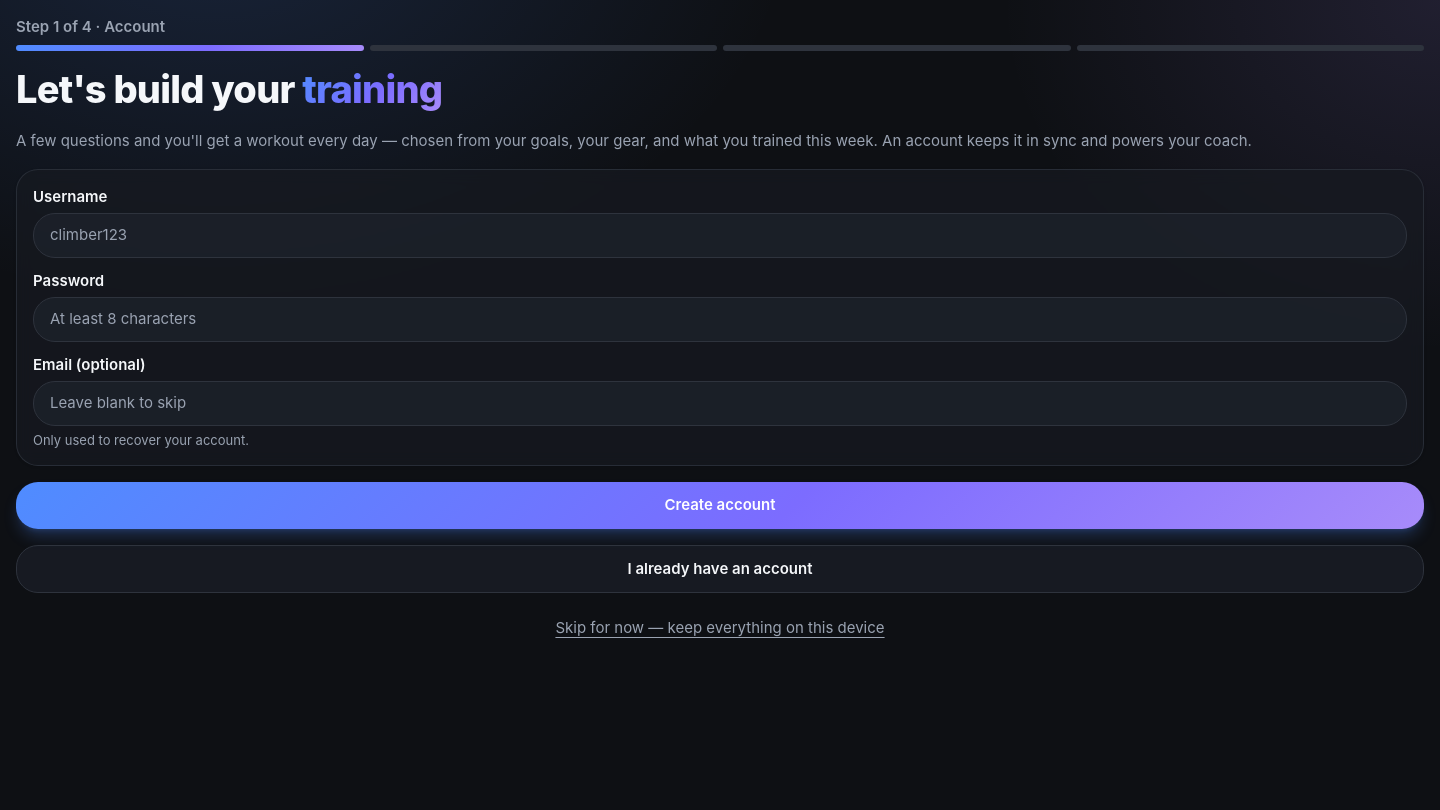
Scenario: Welcome › still asks About you when the account is brand new
Click the button "I already have an account" at (720,569), box [16,545,1424,593]
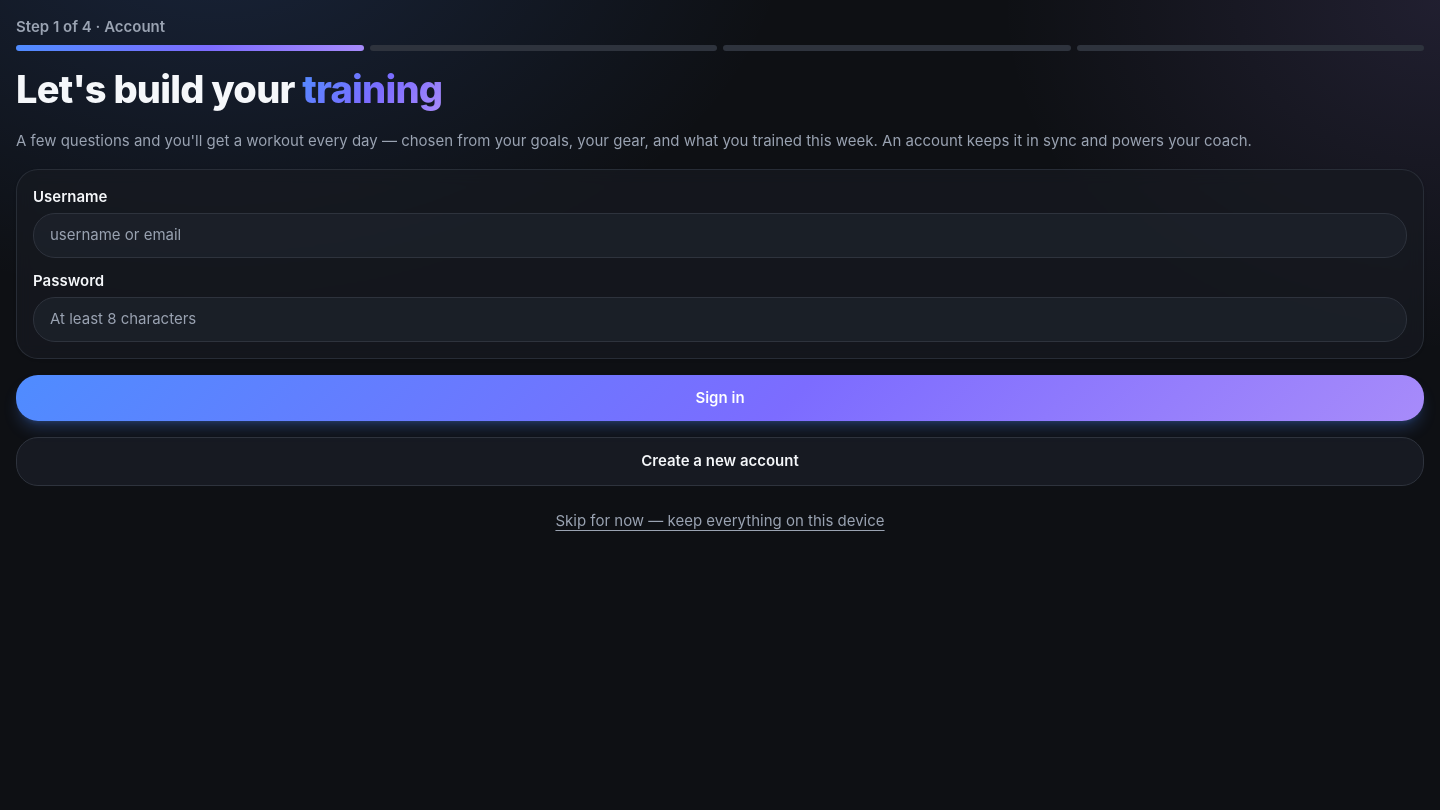
Type "new" into the field with placeholder "username or email" at (720,236), box [33,213,1407,258]
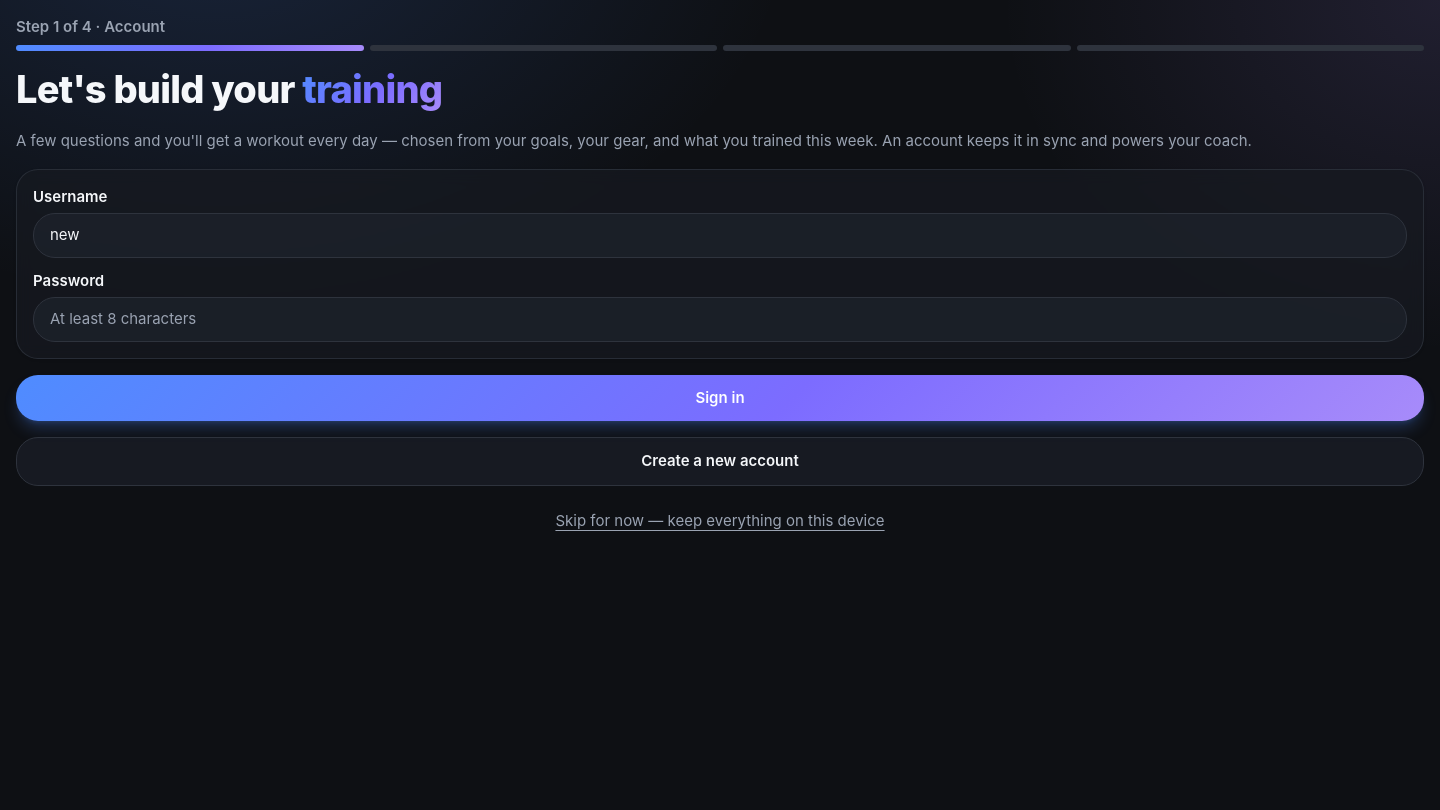
Type "password1" into the password field with placeholder "At least 8 characters" at (720,320), box [33,297,1407,342]
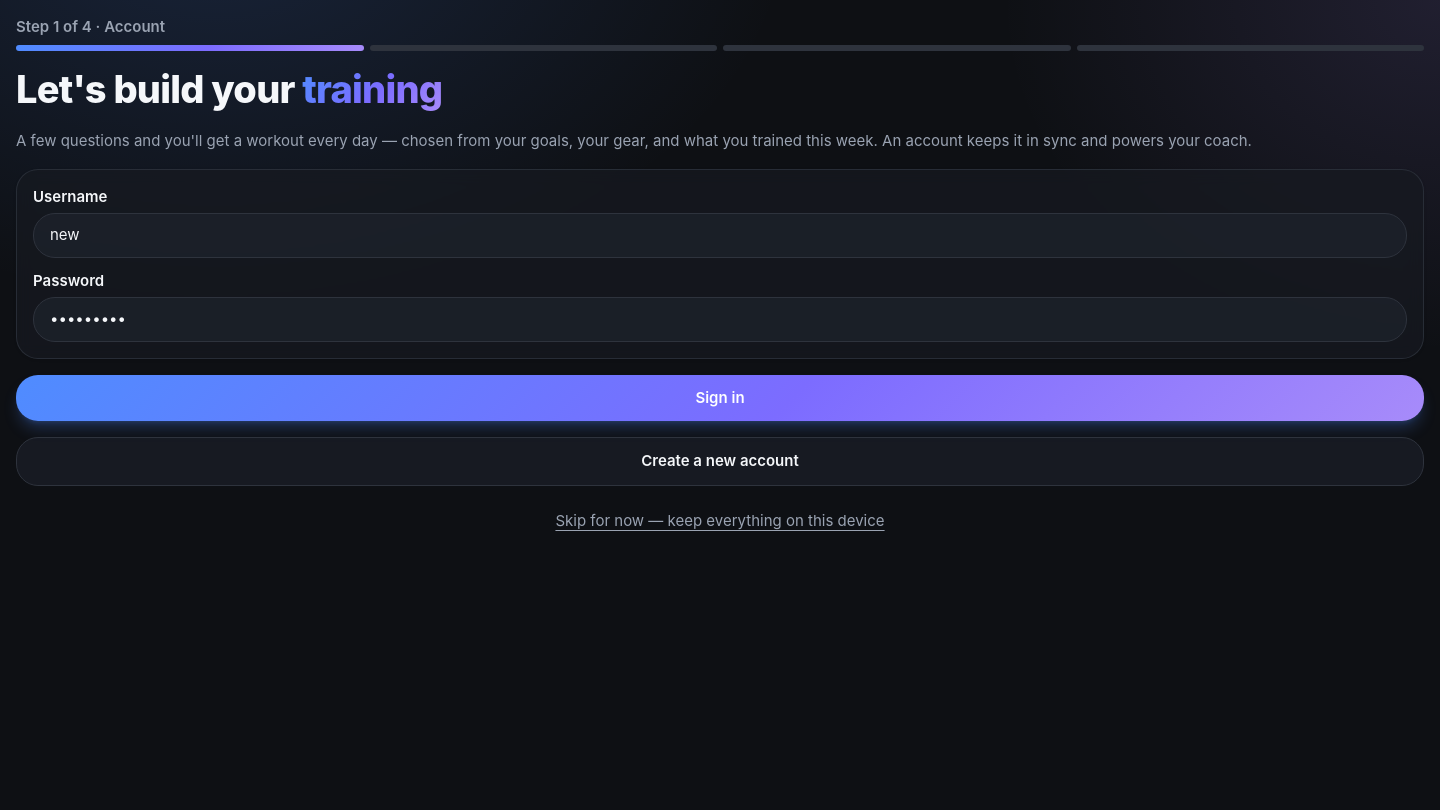
Click the button "Sign in" at (720,398), box [16,375,1424,421]
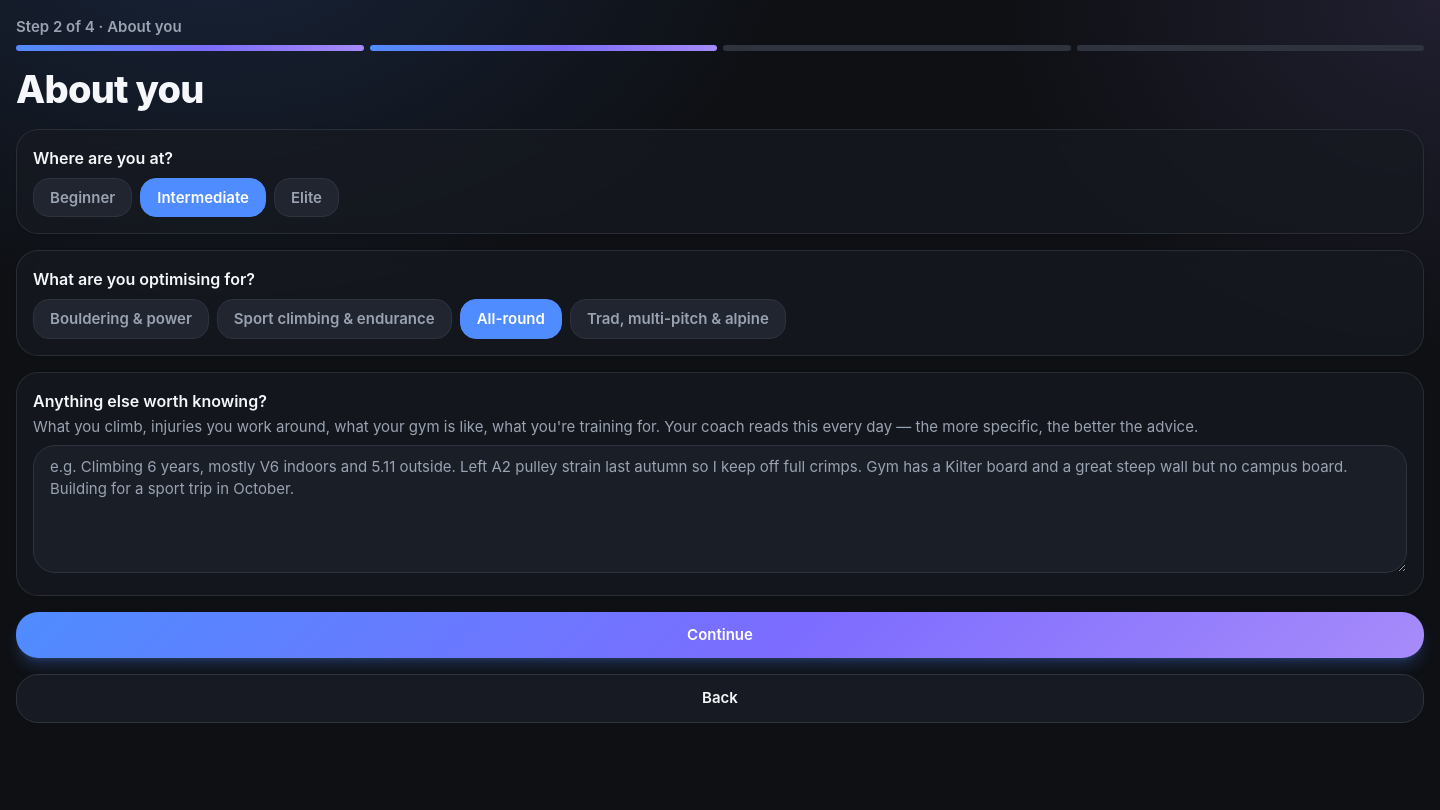
expect the heading "About you" is shown: met, box [16,66,204,112]
